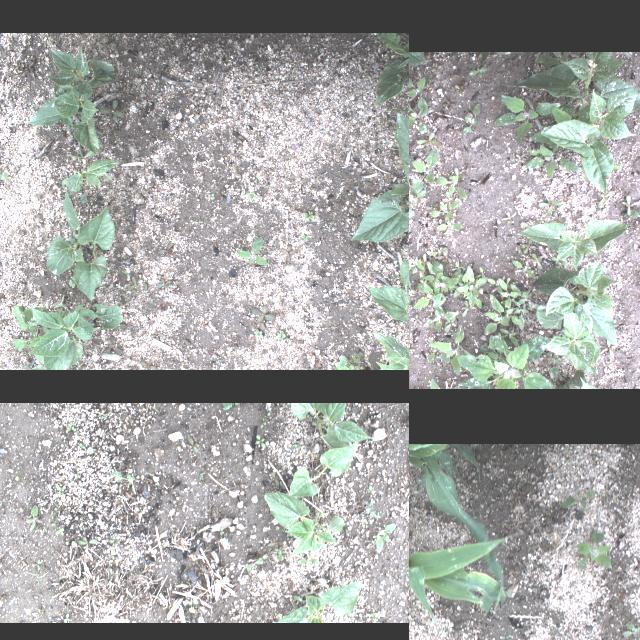crop: (505, 53, 640, 190), (409, 477, 506, 620), (409, 445, 498, 580), (529, 262, 619, 378), (26, 46, 119, 154), (11, 292, 121, 370), (350, 111, 409, 242), (46, 190, 114, 302), (512, 218, 630, 270), (262, 493, 344, 559), (454, 336, 556, 388), (290, 403, 372, 457), (288, 444, 356, 498), (276, 581, 362, 623), (367, 287, 409, 350), (374, 32, 409, 105), (61, 160, 121, 200), (372, 334, 409, 370)
weed: (476, 274, 534, 338), (494, 93, 564, 141), (418, 324, 467, 378), (447, 259, 489, 319), (518, 144, 584, 180), (409, 146, 440, 219), (427, 162, 467, 218), (415, 260, 451, 310), (538, 180, 578, 220), (409, 72, 431, 133), (574, 531, 610, 567), (556, 486, 594, 512), (428, 306, 462, 334), (236, 237, 268, 266), (430, 210, 464, 236), (460, 99, 484, 135), (620, 193, 640, 236), (514, 243, 546, 269), (247, 304, 275, 332), (411, 131, 443, 153), (109, 471, 135, 495), (560, 372, 598, 388), (594, 185, 614, 215), (423, 244, 453, 264), (375, 524, 395, 554), (99, 98, 123, 122), (409, 239, 425, 272), (409, 51, 430, 76), (333, 352, 362, 370), (492, 330, 520, 348), (512, 260, 536, 280), (619, 617, 640, 638), (358, 499, 380, 519), (545, 355, 563, 379), (449, 77, 469, 96), (467, 63, 488, 81), (98, 34, 118, 52), (104, 316, 126, 332), (409, 276, 418, 314), (26, 504, 38, 532), (26, 571, 48, 585), (105, 335, 121, 353), (280, 243, 294, 263), (76, 536, 96, 550), (46, 500, 60, 520), (156, 243, 174, 257), (497, 212, 518, 224), (22, 359, 46, 369), (0, 158, 7, 190), (182, 600, 198, 614), (46, 511, 60, 527), (54, 484, 68, 500), (296, 555, 318, 565), (154, 278, 172, 290), (270, 549, 288, 561), (221, 403, 247, 411), (138, 360, 158, 370), (68, 274, 82, 288), (612, 255, 628, 267), (186, 437, 198, 453), (8, 472, 24, 484), (426, 378, 444, 388), (128, 279, 142, 291), (254, 434, 266, 448), (108, 533, 120, 547), (409, 312, 420, 327), (236, 563, 254, 571), (106, 567, 118, 579), (634, 268, 640, 290), (390, 107, 406, 115), (149, 332, 163, 341), (246, 191, 258, 201), (302, 210, 314, 220), (267, 538, 279, 548), (293, 596, 305, 606), (150, 407, 162, 417), (31, 559, 41, 571), (409, 341, 416, 357), (270, 472, 278, 486), (63, 281, 73, 291), (256, 555, 266, 565), (276, 330, 284, 342), (272, 310, 284, 318), (142, 278, 150, 290), (79, 191, 87, 203), (72, 185, 88, 191), (35, 608, 43, 620), (370, 612, 380, 620), (54, 528, 64, 536), (254, 330, 262, 338), (62, 614, 70, 622), (208, 192, 214, 202), (66, 422, 72, 432), (300, 233, 308, 240), (368, 486, 374, 494), (264, 412, 270, 420), (78, 443, 85, 449), (118, 582, 125, 588), (108, 557, 115, 563), (142, 472, 152, 476), (123, 270, 129, 276), (198, 474, 204, 480), (100, 413, 106, 419), (42, 526, 48, 532), (254, 174, 258, 182), (292, 444, 300, 448), (146, 34, 150, 40), (48, 38, 52, 44), (197, 220, 203, 224), (260, 422, 264, 428), (138, 506, 142, 512), (34, 526, 40, 530), (220, 526, 222, 536), (162, 506, 168, 509), (122, 294, 126, 298), (364, 522, 372, 524), (74, 474, 78, 478)
